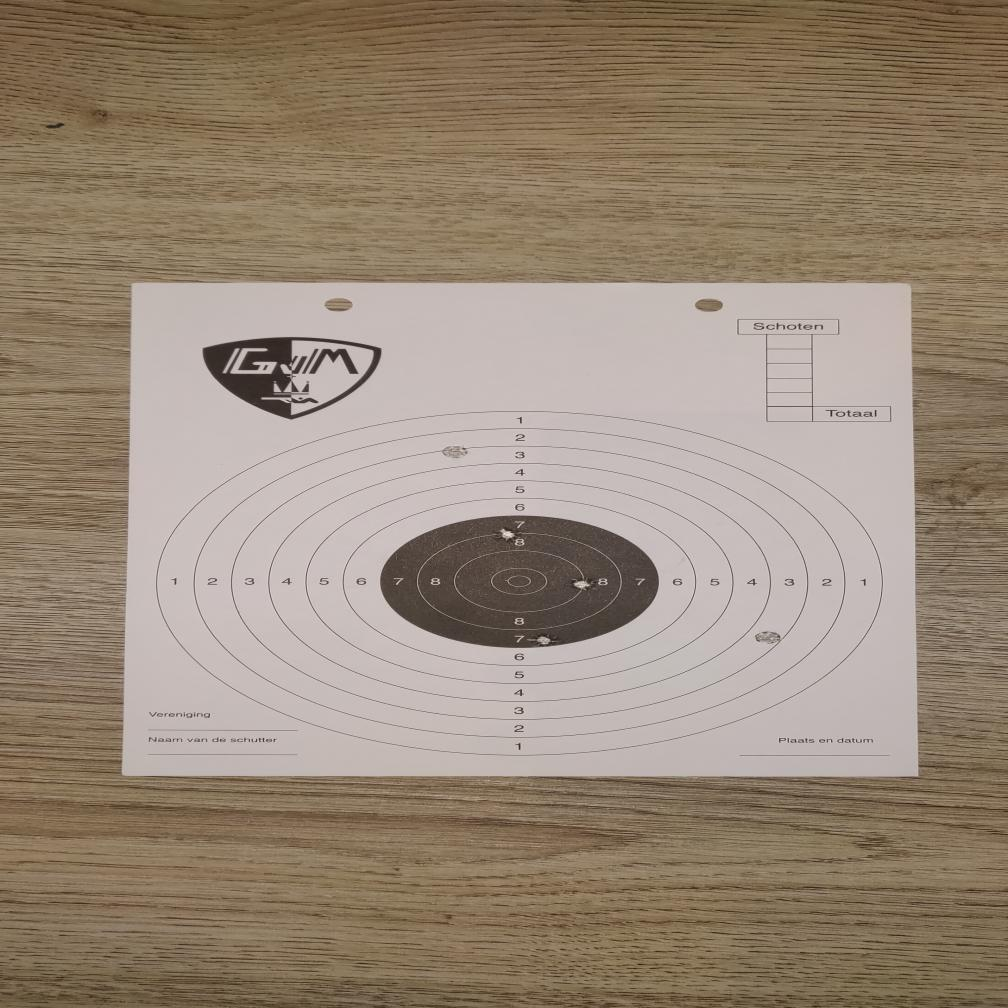3: (438, 445, 470, 458), (754, 631, 785, 644)
7: (528, 633, 562, 647)
8: (492, 527, 522, 541)
9: (566, 576, 598, 592)
Target: (153, 408, 888, 756)
black_contour: (380, 515, 658, 648)
